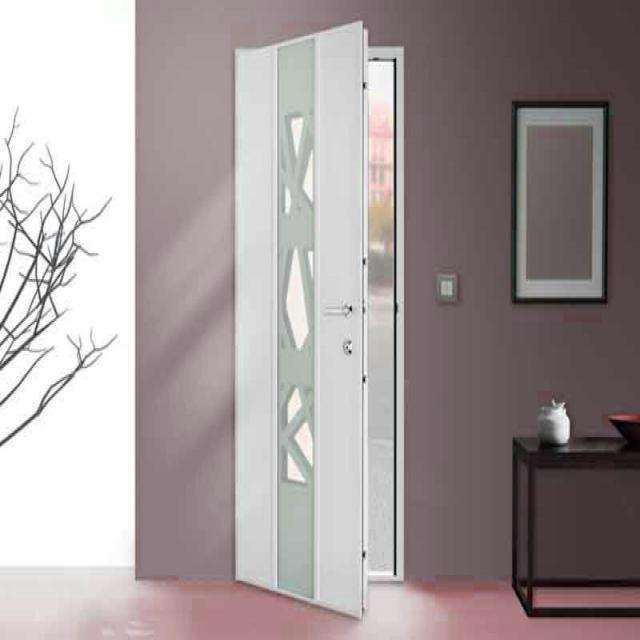door: (235, 13, 410, 633)
